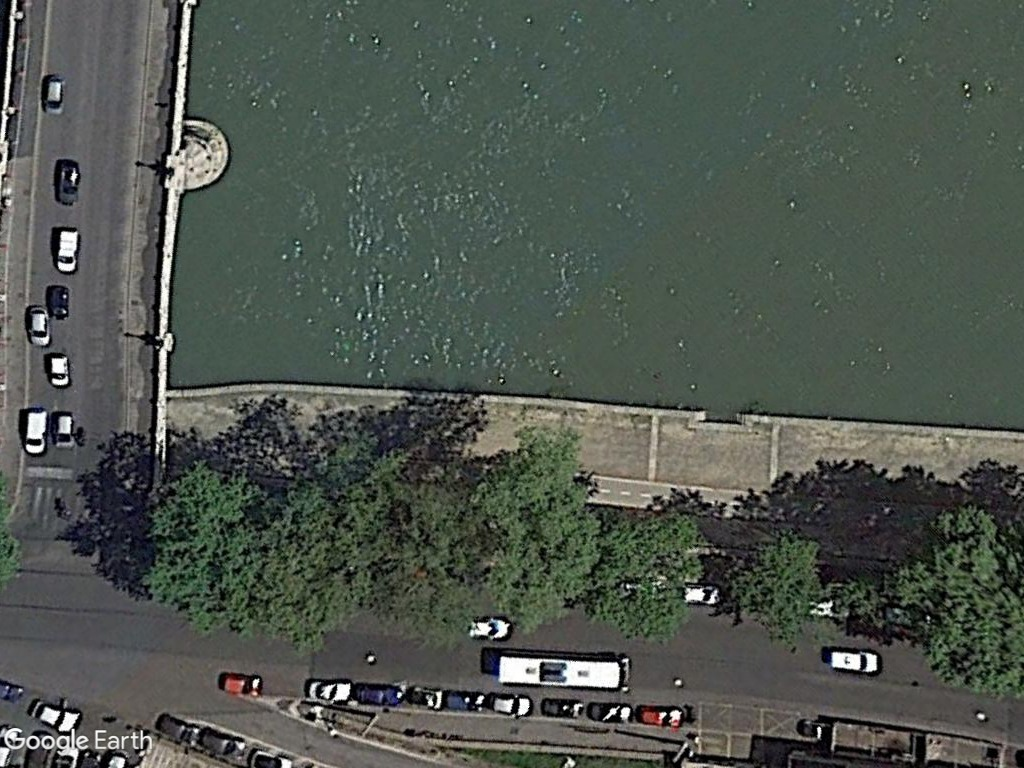bus: (488, 644, 639, 694)
car: (23, 695, 86, 735), (150, 708, 205, 751), (212, 669, 270, 701), (458, 610, 516, 641), (479, 689, 537, 719), (299, 673, 355, 704), (52, 157, 84, 209), (632, 701, 689, 730), (22, 301, 54, 351), (350, 682, 405, 708), (538, 695, 590, 722), (42, 70, 69, 121), (584, 699, 632, 724), (50, 407, 76, 453), (45, 282, 73, 322), (403, 684, 447, 709), (47, 353, 70, 390)
van: (823, 643, 885, 676), (19, 405, 50, 459), (53, 224, 83, 274)
